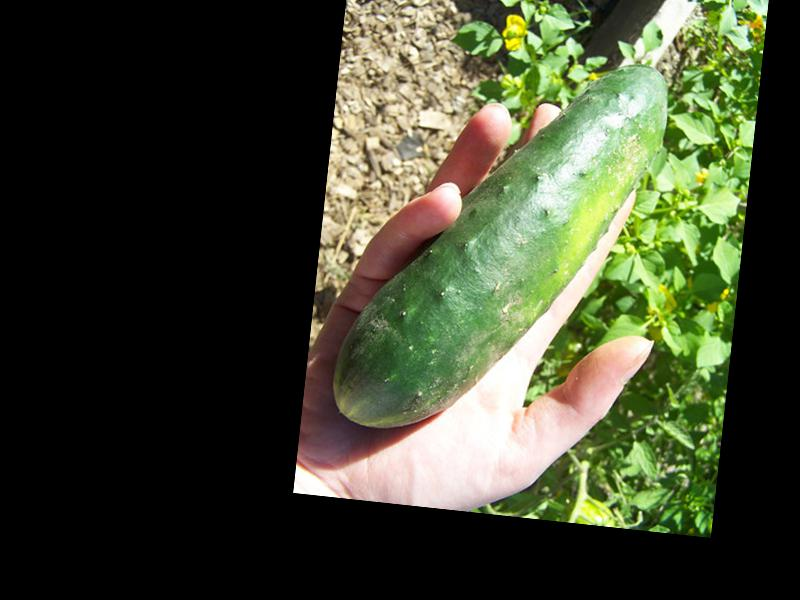Cucumber: (331, 34, 671, 453)
